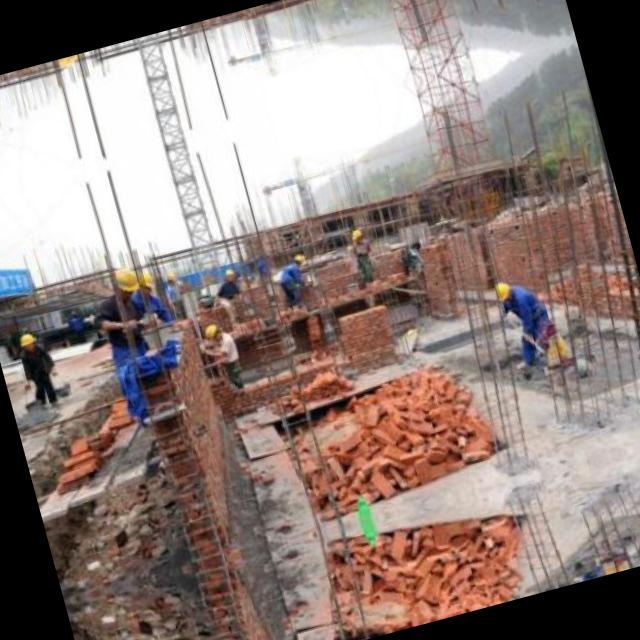helmet: (106, 262, 141, 304), (126, 268, 156, 299), (487, 278, 514, 307), (12, 328, 38, 354), (50, 54, 80, 75), (200, 322, 224, 344), (288, 249, 306, 269), (347, 224, 365, 244)
